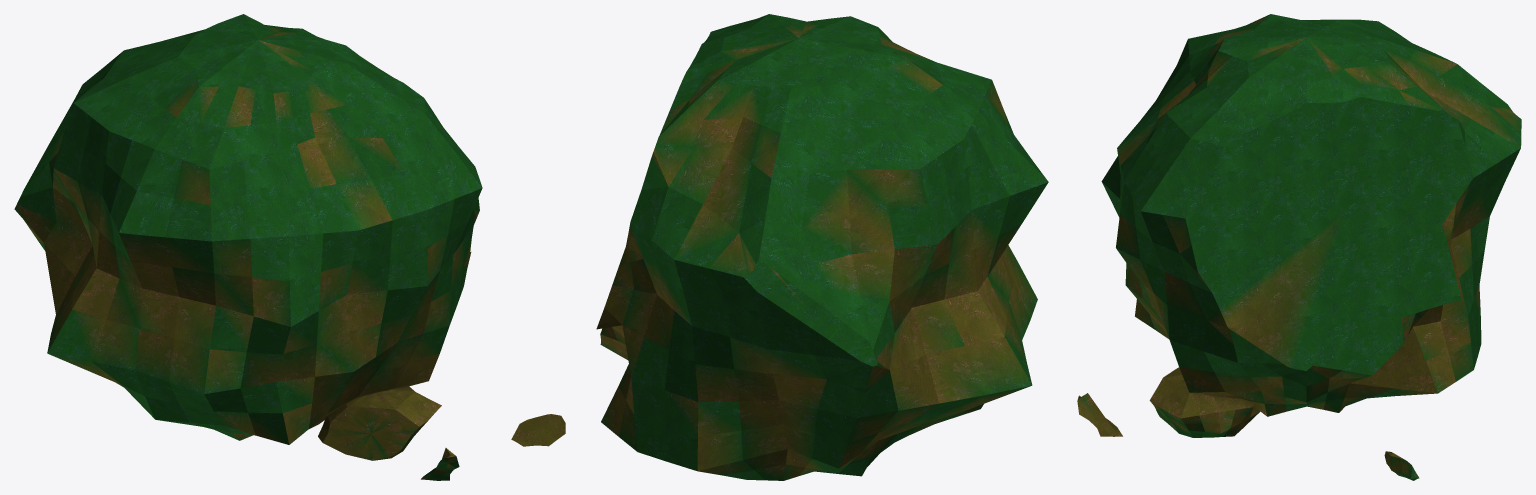
Rendered from cliff_1.glb.
The picture shows the model from 3 angles, left to right: view 1: azimuth 30°, elevation 25°; view 2: azimuth 150°, elevation 25°; view 3: azimuth 270°, elevation 25°; orthographic projection. The views are drawn at different scales.
Visible parts, largest first — view 1: cliff; view 2: cliff; view 3: cliff.
Part boxes in pixels (x1,y1,x2,y2): cliff: (14, 14, 482, 480); cliff: (511, 14, 1048, 480); cliff: (1077, 14, 1521, 480).
Size of the model in its own units: 8.4 by 7.52 by 8.25.
Materials: 1 (1 with a texture image).
